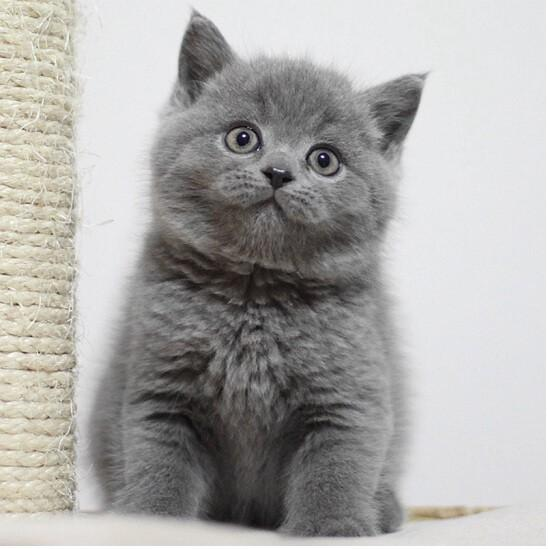cat: (82, 4, 491, 542)
